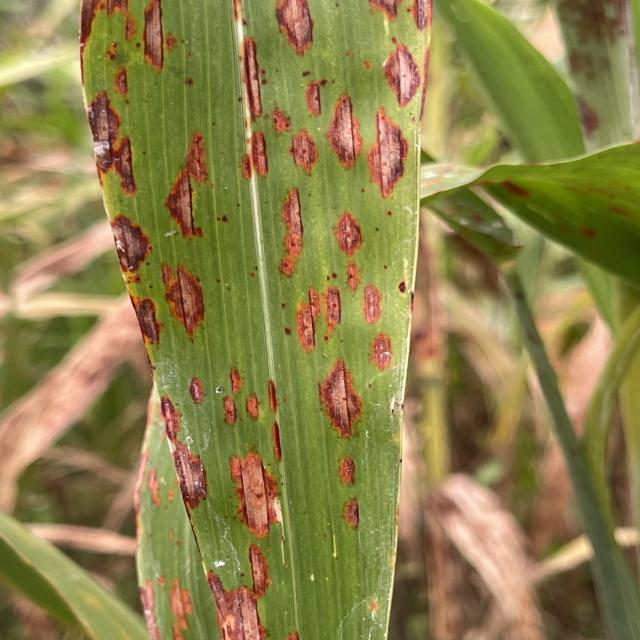millet_rust: (70, 0, 453, 640)
